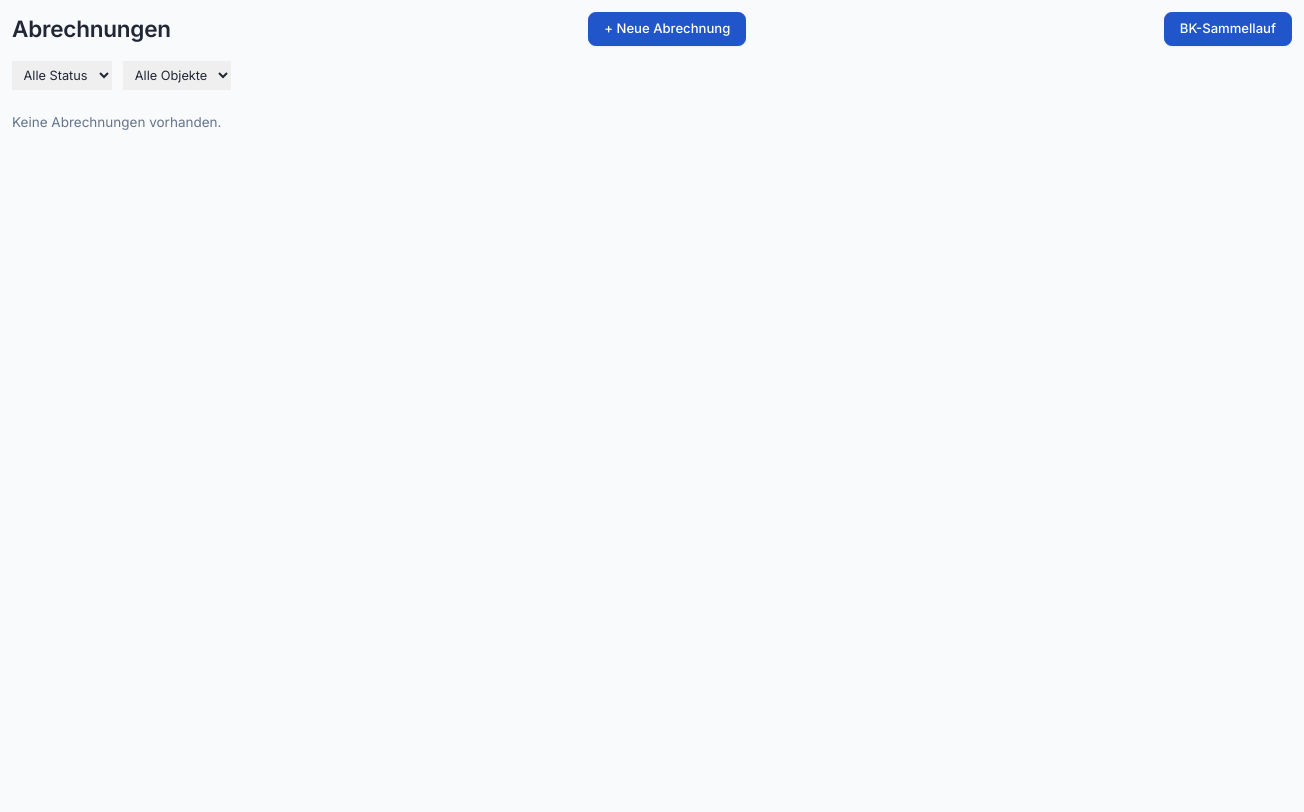
creates three drafts, reloads human labels, preserves unknown money and permits same-period repeat
Click the button "BK-Sammellauf". click: (1228, 29)
box: top-left (1164, 12), bottom-right (1292, 46)
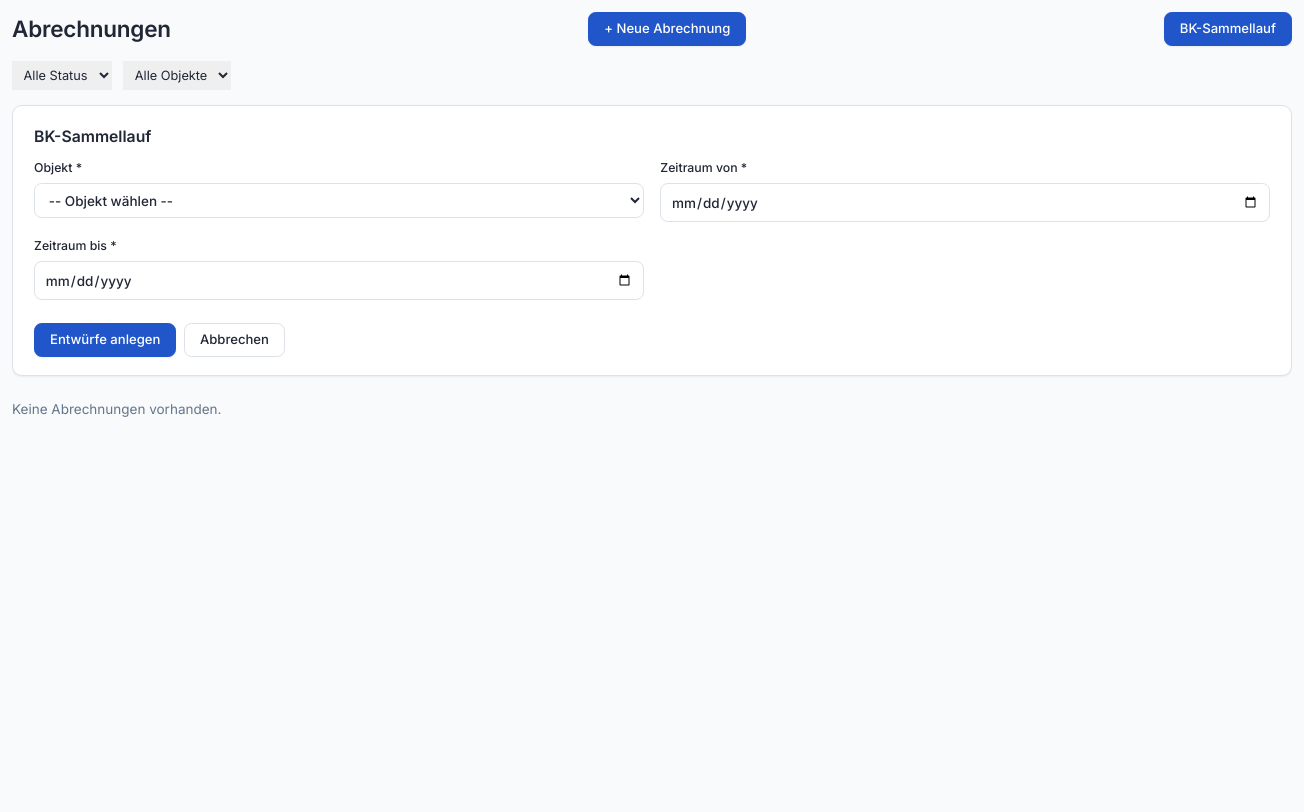
Select "Sonnenhof" in the dropdown labelled "Objekt *". click: (339, 201)
box: top-left (34, 183), bottom-right (644, 218)
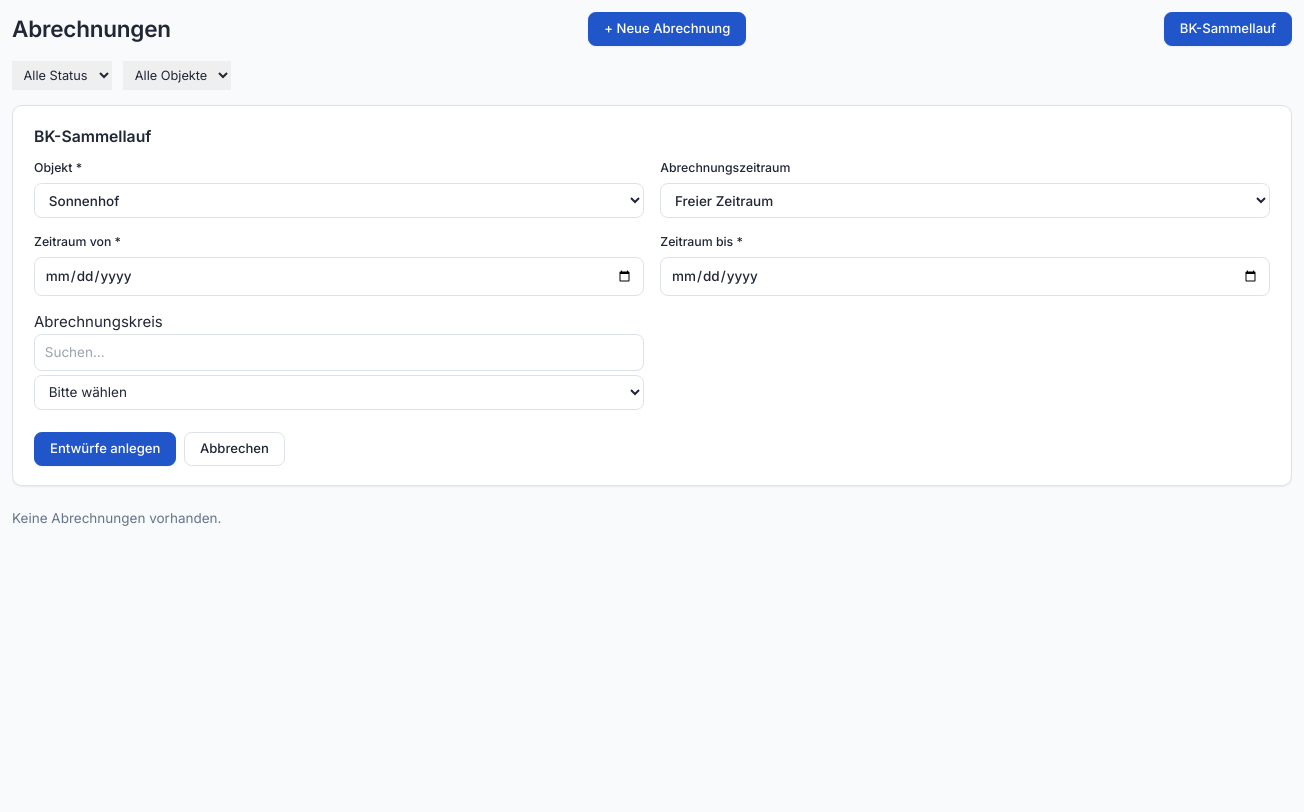
Type "2025-07-01" into the date field labelled "Zeitraum von *". click: (339, 276)
box: top-left (34, 257), bottom-right (644, 296)
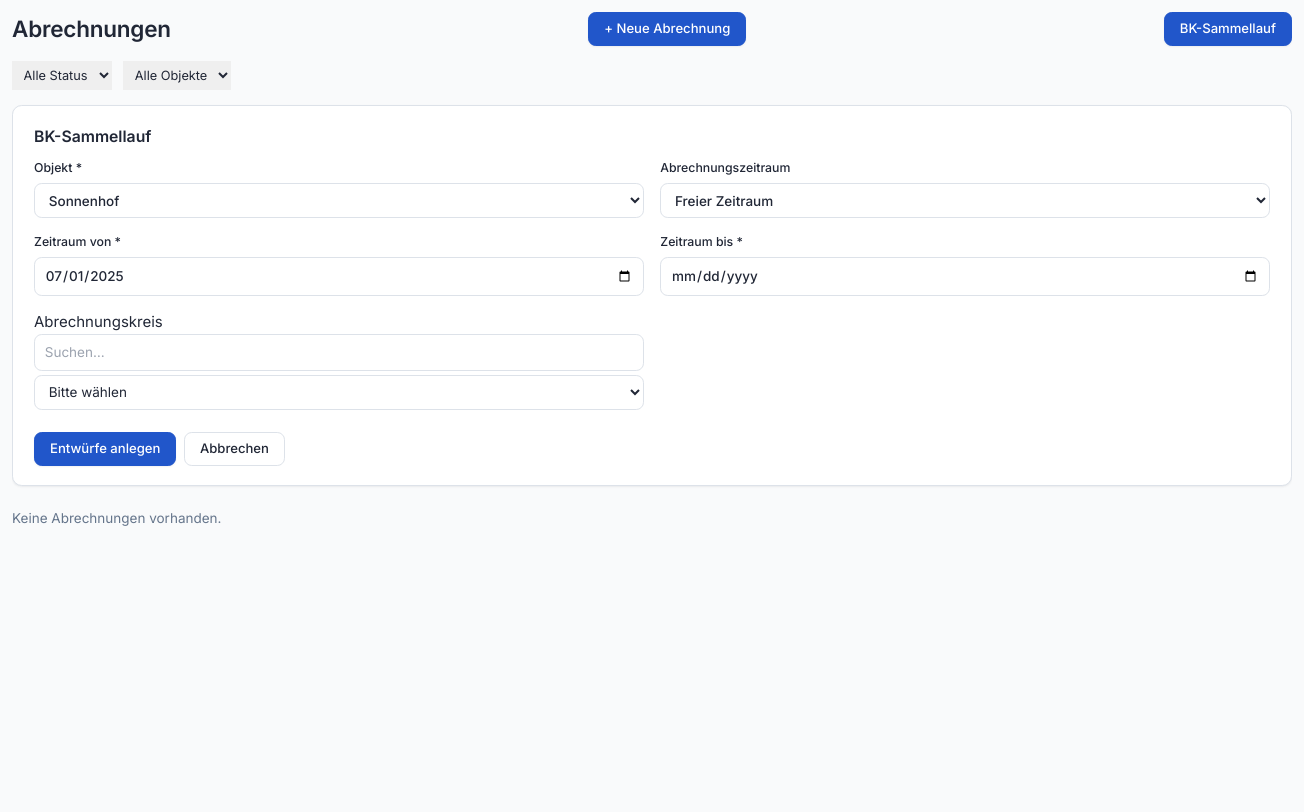
Type "2026-06-30" into the date field labelled "Zeitraum bis *". click: (965, 276)
box: top-left (660, 257), bottom-right (1270, 296)
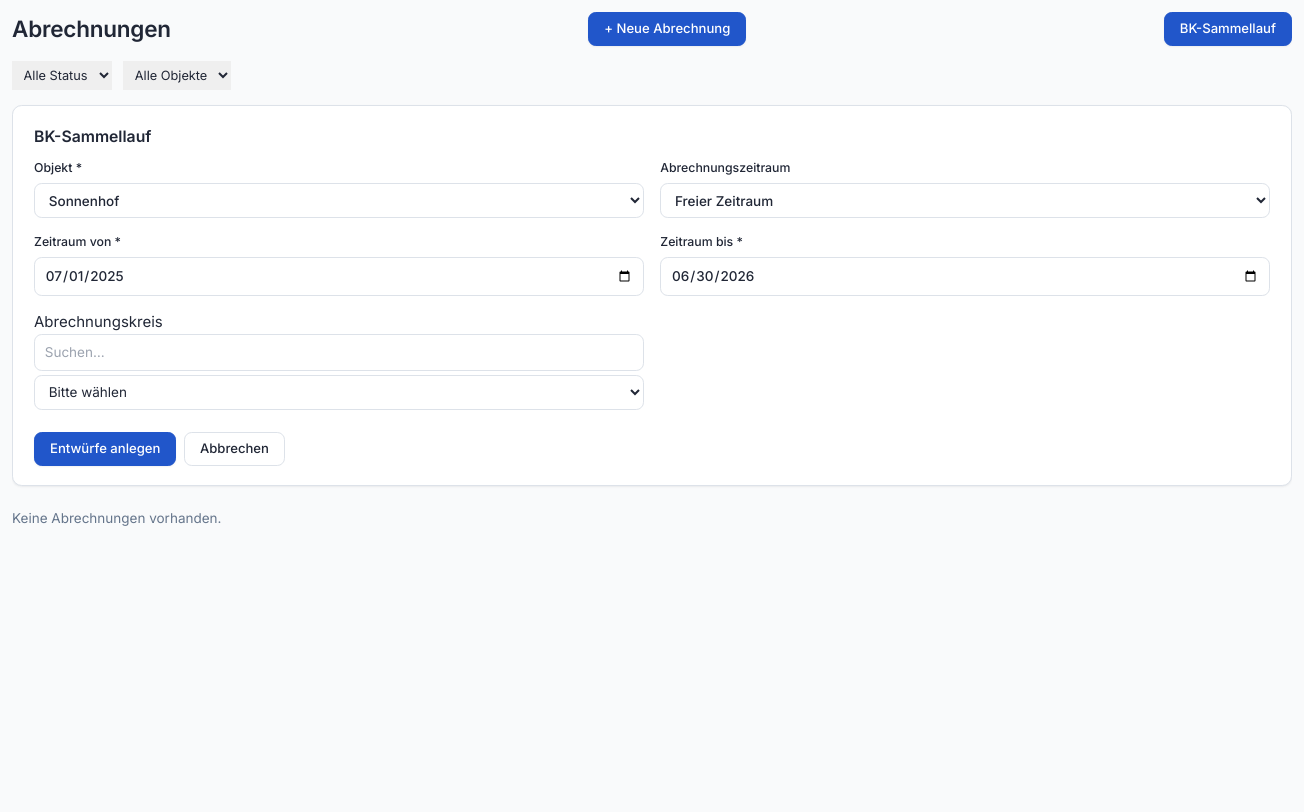
Click the button "Entwürfe anlegen". click: (105, 449)
box: top-left (34, 432), bottom-right (176, 466)
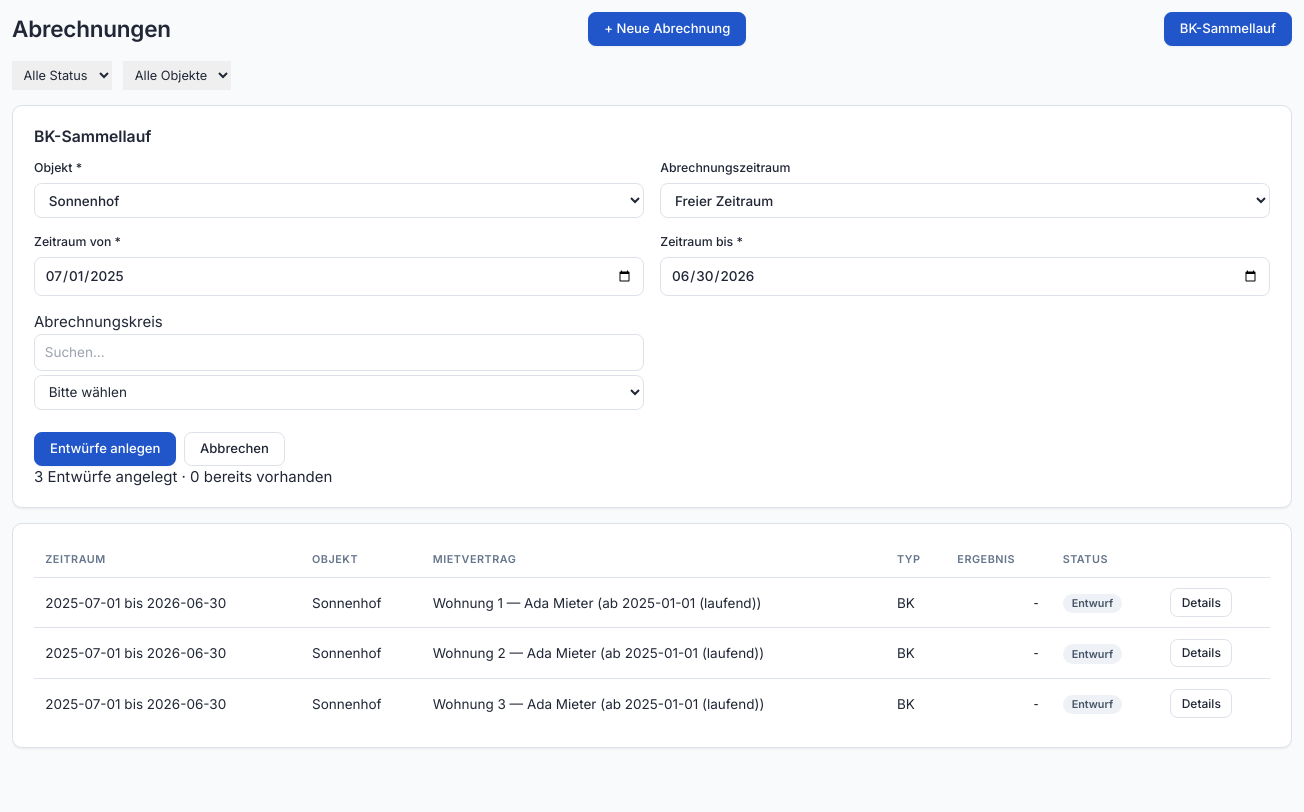
Now the message reads "3 Entwürfe angelegt · 0 bereits vorhanden", box top-left (34, 467), bottom-right (332, 486)
Now the table is shown, box top-left (34, 543), bottom-right (1270, 728)
Now the text "Wohnung 1 — Ada Mieter (ab 2025-01-01 (laufend))" is shown, box top-left (422, 577), bottom-right (886, 628)
Click the button "Entwürfe anlegen". click: (105, 449)
box: top-left (34, 432), bottom-right (176, 466)
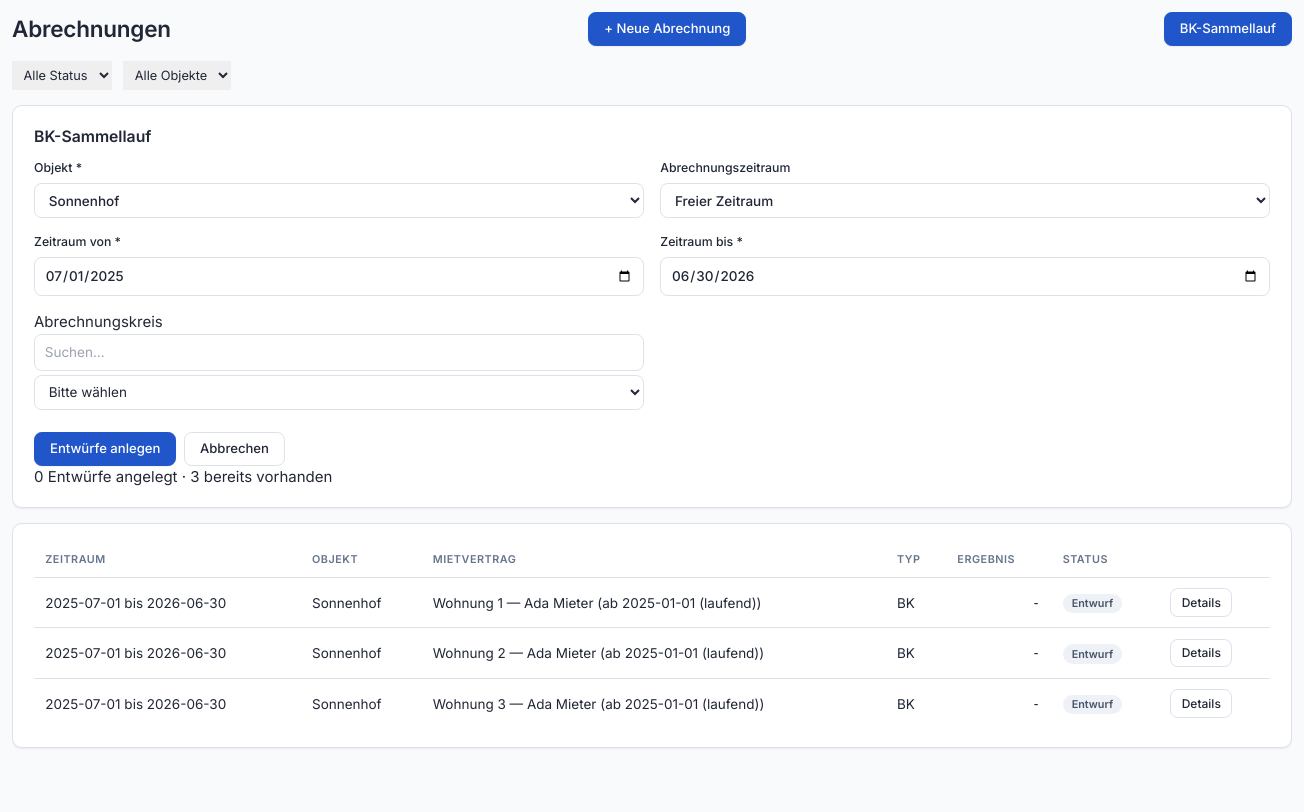
Now the message reads "0 Entwürfe angelegt · 3 bereits vorhanden", box top-left (34, 467), bottom-right (332, 486)
